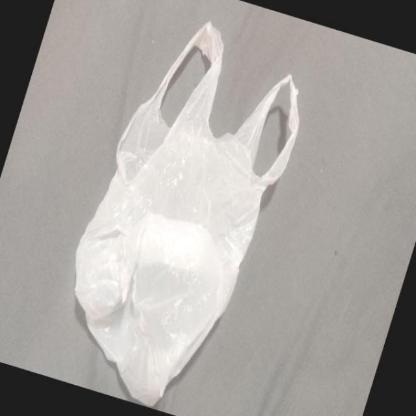Plastic Bag: (71, 19, 299, 409)
